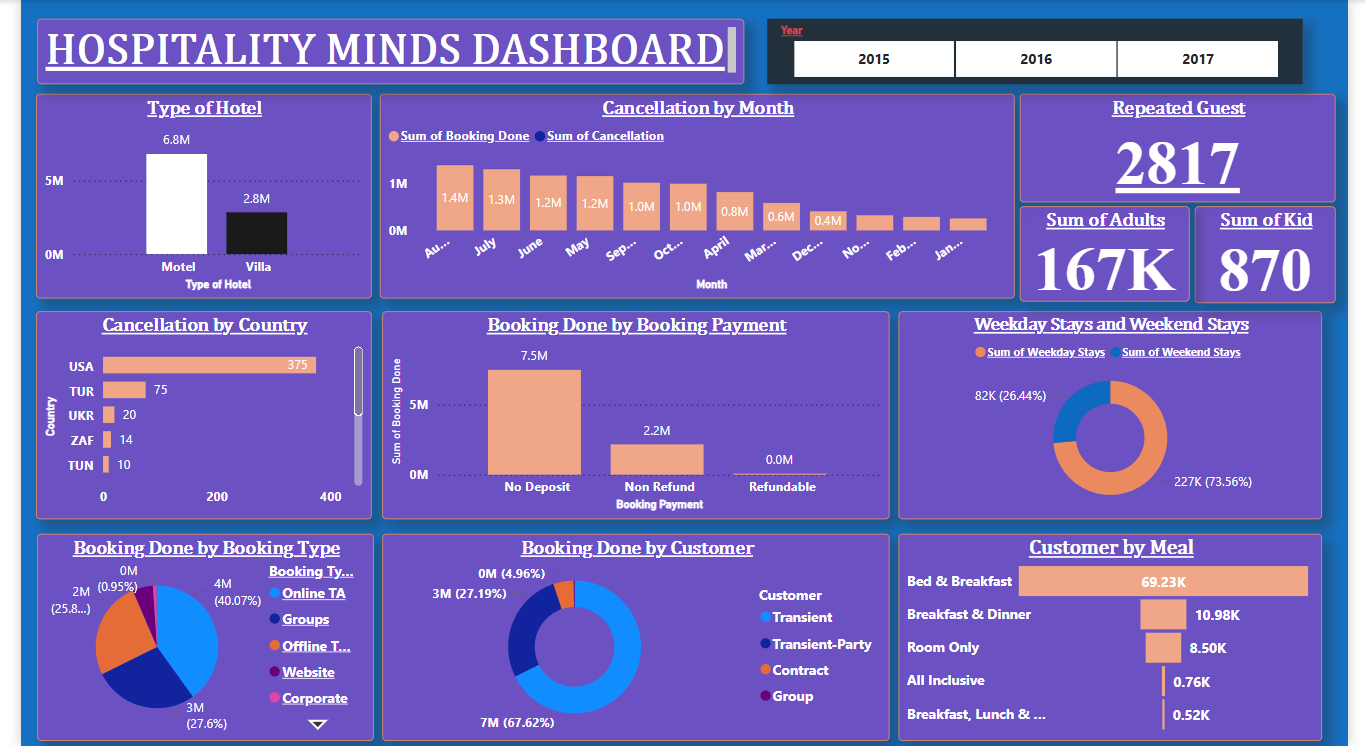

Layout of this report page (visuals, bound fields, positions):
{"tool":"powerbi","page":{"name":"Page 1","canvas":[1280,720],"ordinal":0},"visuals":[{"type":"clusteredColumnChart","title":" Type of Hotel","fields":{"Category":["Hospitality minds dataset.Type of Hotel"],"Y":["Sum(Hospitality minds dataset.Booking Done)"]},"box":[14.6,90.8,323.7,197.8],"z":0},{"type":"columnChart","title":"Cancellation by Month","fields":{"Category":["Hospitality minds dataset.Month"],"Y":["Sum(Hospitality minds dataset.Booking Done)","Sum(Hospitality minds dataset.Cancellation)"]},"box":[346.5,90.9,613.1,197.8],"z":1000},{"type":"barChart","title":"Cancellation by Country","fields":{"Category":["Hospitality minds dataset.Country"],"Y":["Sum(Hospitality minds dataset.Cancellation)"]},"box":[14.6,300.3,323.7,200.7],"z":2000},{"type":"pieChart","title":"Booking Done by Booking Type","fields":{"Category":["Hospitality minds dataset.Booking Type"],"Y":["Sum(Hospitality minds dataset.Booking Done)"]},"box":[15.7,515.2,324.5,200.3],"z":3000},{"type":"columnChart","title":"Booking Done by Booking Payment","fields":{"Y":["Sum(Hospitality minds dataset.Booking Done)"],"Category":["Hospitality minds dataset.Booking Payment"]},"box":[348.6,300.3,489.3,200.7],"z":4000},{"type":"donutChart","title":"Booking Done by Customer","fields":{"Y":["Sum(Hospitality minds dataset.Booking Done)"],"Category":["Hospitality minds dataset.Customer"]},"box":[348.7,515.2,489.8,200.3],"z":5000},{"type":"card","title":"Repeated Guest","fields":{"Values":["Sum(Hospitality minds dataset.Repeated Guest)"]},"box":[964.5,90.9,304.7,104.4],"z":6000},{"type":"donutChart","title":"Weekday Stays and Weekend Stays","fields":{"Y":["Sum(Hospitality minds dataset.Weekday Stays)","Sum(Hospitality minds dataset.Weekend Stays)"]},"box":[846.7,300.3,408.7,200.7],"z":7000},{"type":"card","title":"Sum of Kid","fields":{"Values":["Sum(Hospitality minds dataset.Kids)"]},"box":[1132.3,199.2,136.2,93.8],"z":8000},{"type":"card","title":"Sum of Adults","fields":{"Values":["Sum(Hospitality minds dataset.Adults)"]},"box":[963.9,199.2,164.1,92.3],"z":9000},{"type":"funnel","title":" Customer by Meal","fields":{"Category":["Hospitality minds dataset.Meal"],"Y":["CountNonNull(Hospitality minds dataset.Customer)"]},"box":[846.9,515.2,409,200.3],"z":10000},{"type":"textbox","box":[16.1,17.6,682.6,63],"z":11000},{"type":"slicer","fields":{"Values":["Hospitality minds dataset.Year"]},"box":[720.7,17.6,517.1,63],"z":12000}]}

Visuals, with their boxes in screenshot pixels (x1, y1, x2, y2), scaled from the page's 1280x720 canvas onto the 1365x746 screenshot:
" Type of Hotel" clusteredColumnChart: <box>16,94,361,299</box>
"Cancellation by Month" columnChart: <box>370,94,1023,299</box>
"Cancellation by Country" barChart: <box>16,311,361,519</box>
"Booking Done by Booking Type" pieChart: <box>17,534,363,741</box>
"Booking Done by Booking Payment" columnChart: <box>372,311,894,519</box>
"Booking Done by Customer" donutChart: <box>372,534,894,741</box>
"Repeated Guest" card: <box>1029,94,1353,202</box>
"Weekday Stays and Weekend Stays" donutChart: <box>903,311,1339,519</box>
"Sum of Kid" card: <box>1207,206,1353,304</box>
"Sum of Adults" card: <box>1028,206,1203,302</box>
" Customer by Meal" funnel: <box>903,534,1339,741</box>
textbox: <box>17,18,745,84</box>
slicer - Hospitality minds dataset.Year: <box>769,18,1320,84</box>
